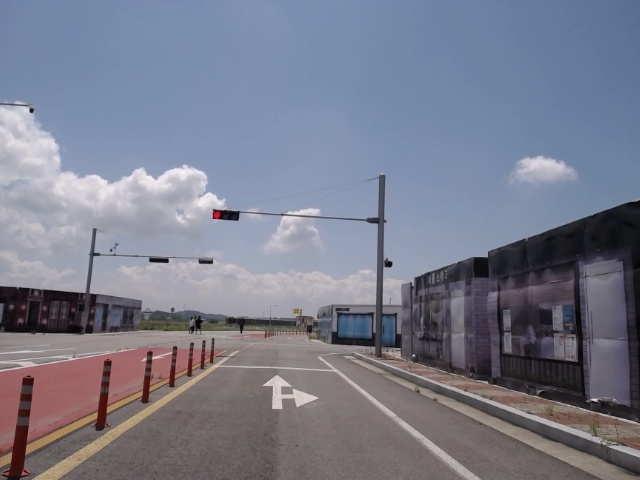red_3: (211, 207, 240, 222)
